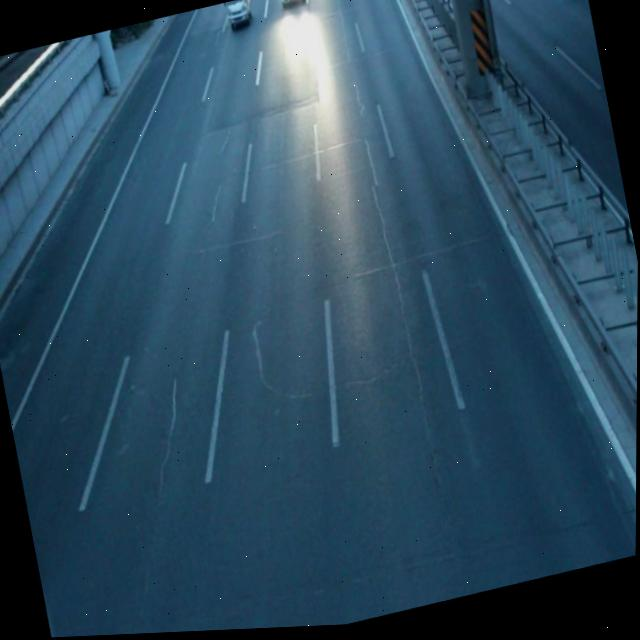car: (222, 0, 253, 29), (278, 0, 305, 9)
